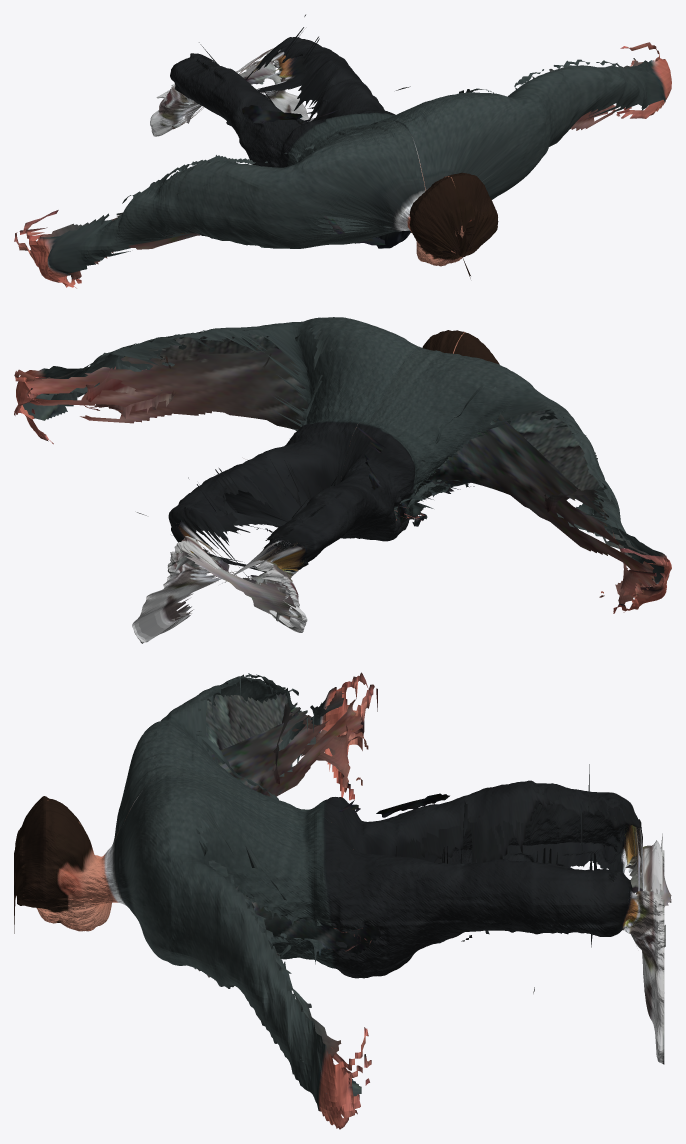
Rendered from mesh_inpaint.glb.
3 views of the same model, one above another, from view 1: azimuth 30°, elevation 25°; view 2: azimuth 150°, elevation 25°; view 3: azimuth 270°, elevation 25° (orthographic). The views are drawn at different scales.
Parts seen in each view (by area): view 1: ipn, fill; view 2: ipn, fill; view 3: ipn, fill.
Part boxes in pixels (x1=…): ipn: x1=14, y1=14, x2=671, y2=288; fill: x1=38, y1=59, x2=654, y2=279; ipn: x1=14, y1=317, x2=671, y2=643; fill: x1=22, y1=326, x2=656, y2=621; ipn: x1=14, y1=672, x2=665, y2=1129; fill: x1=194, y1=673, x2=671, y2=1096.
Bounding box in the file's own units: 1.94 × 0.5343 × 1.27.
2 materials, 1 textured.
